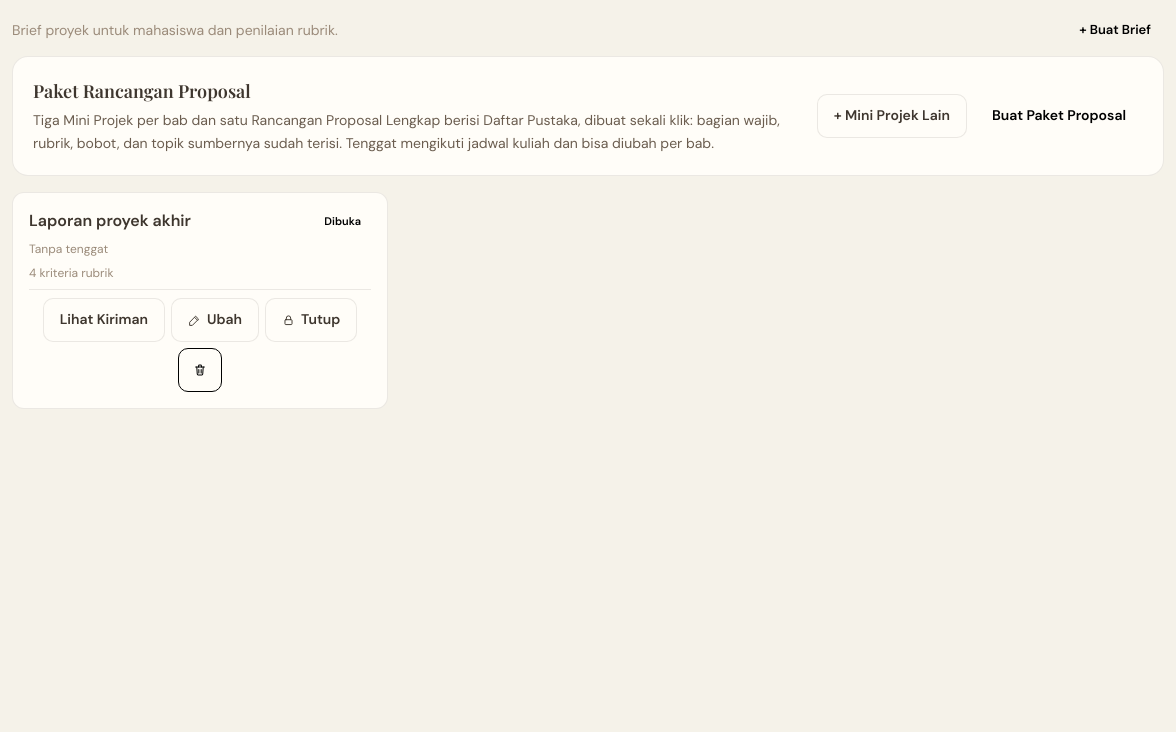
Test: TugasAkhirPanel — dosen › tombol "Nilai" membuka modal berisi nama kriteria rubrik
This screenshot has width=1176, height=732.
Expected: the heading "Laporan proyek akhir" is shown, [29, 209, 191, 233]
Click the button "Lihat Kiriman" at (104, 320), box [43, 298, 165, 342]
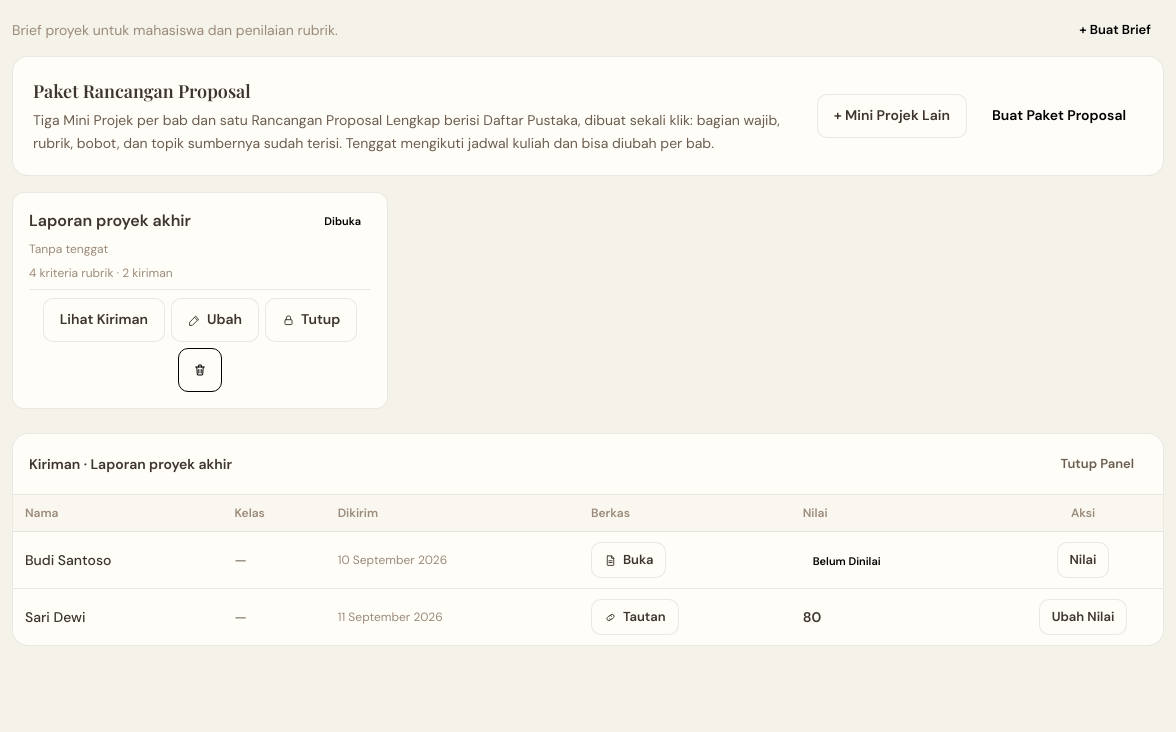
Expected: the text "Budi Santoso" is shown, [13, 532, 222, 588]
Click the button "Nilai" at (1083, 560), box [1056, 542, 1110, 578]
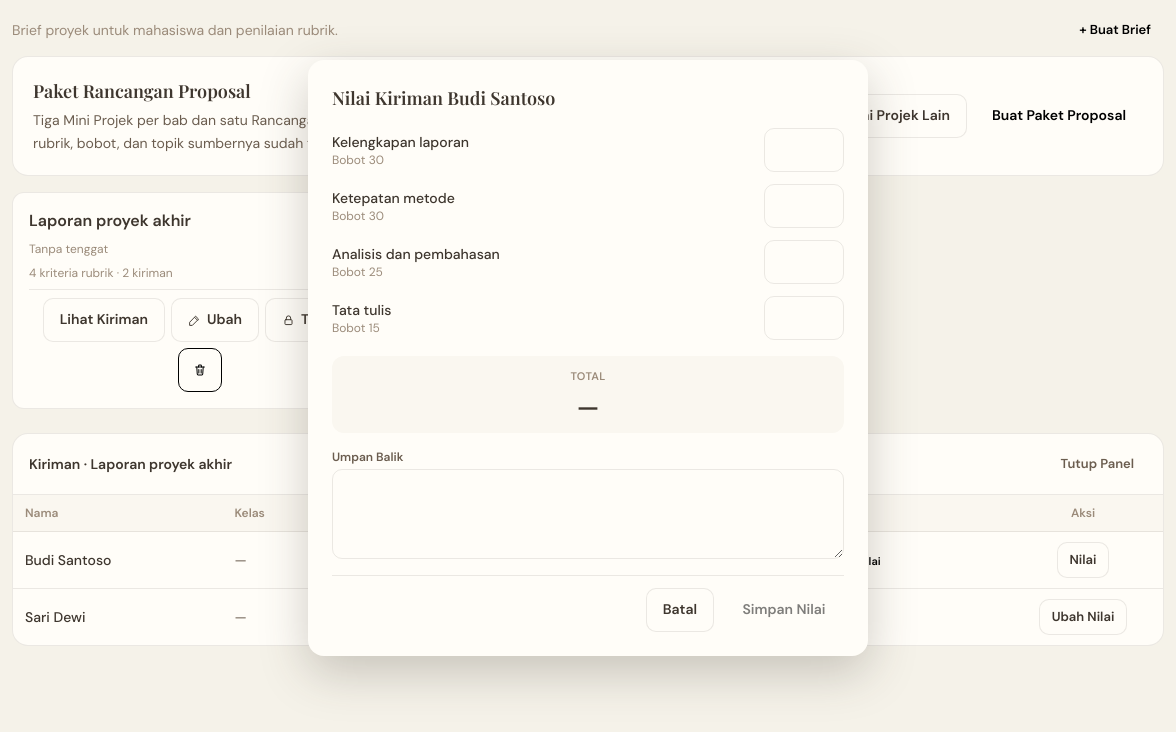
Expected: the text "Kelengkapan laporan" is shown, [332, 132, 469, 152]
